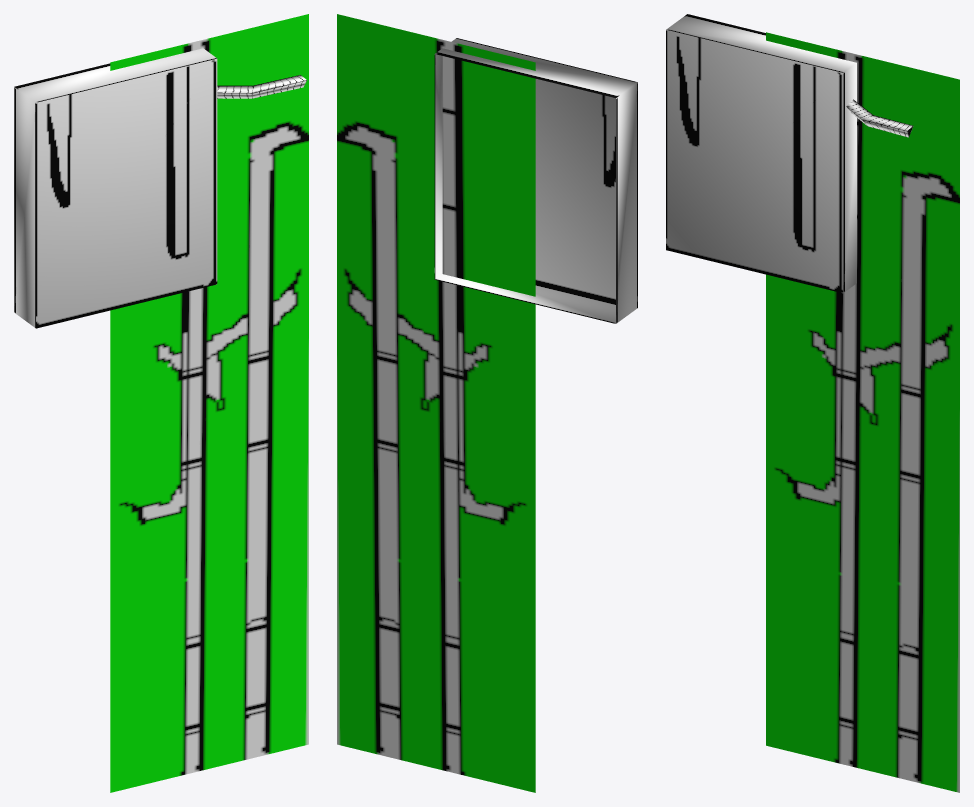
The model's file is Building_02_06.fbx.
The picture shows the model from 3 angles, left to right: view 1: azimuth 30°, elevation 25°; view 2: azimuth 150°, elevation 25°; view 3: azimuth 330°, elevation 25°; orthographic projection. The views are drawn at different scales.
Visible parts, largest first — view 1: Building_02_06; view 2: Building_02_06; view 3: Building_02_06.
Part boxes in pixels (x1,y1,x2,y2): Building_02_06: (14, 14, 308, 792); Building_02_06: (337, 14, 637, 792); Building_02_06: (666, 14, 959, 792).
Size of the model in its own units: 3.57 by 8.68 by 0.7316.
